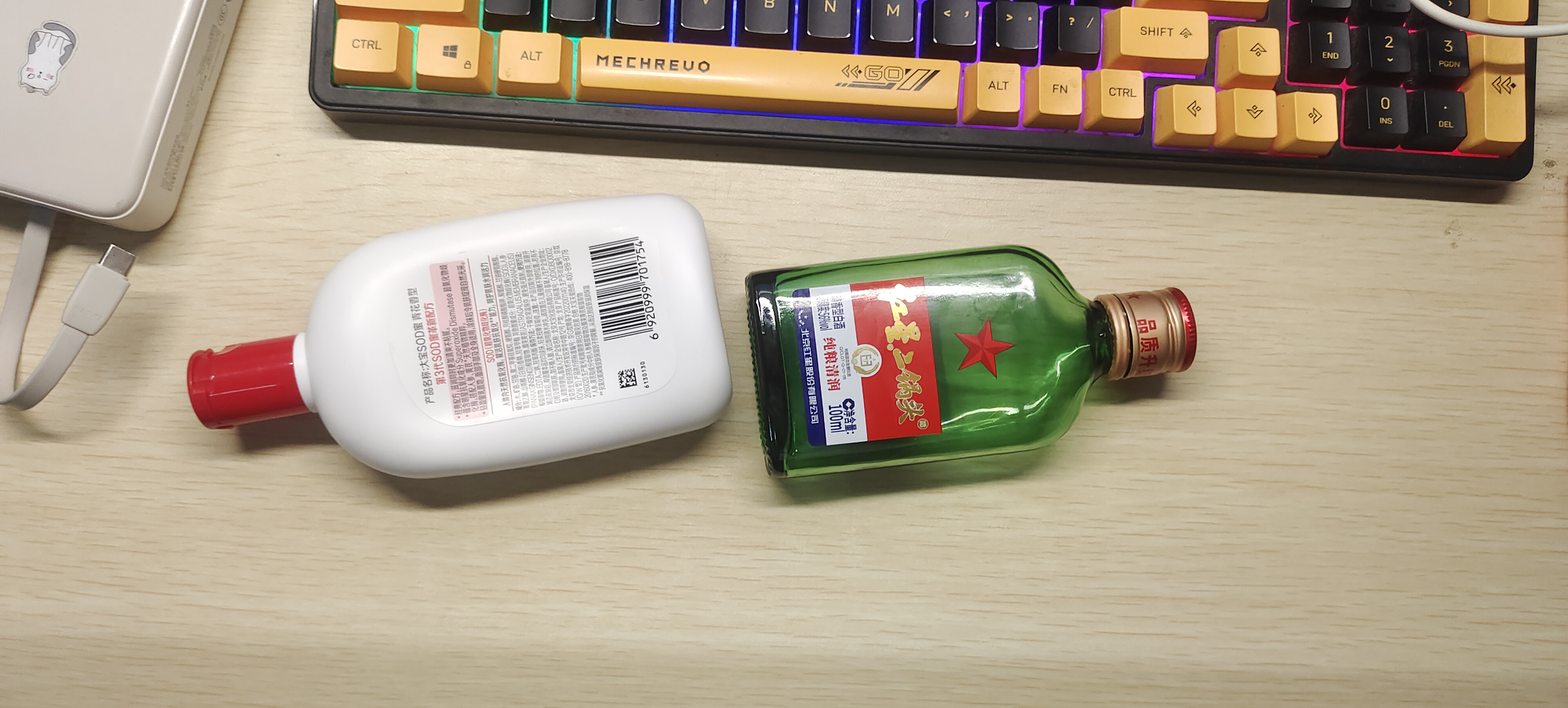redbull: (730, 261, 1259, 496)
